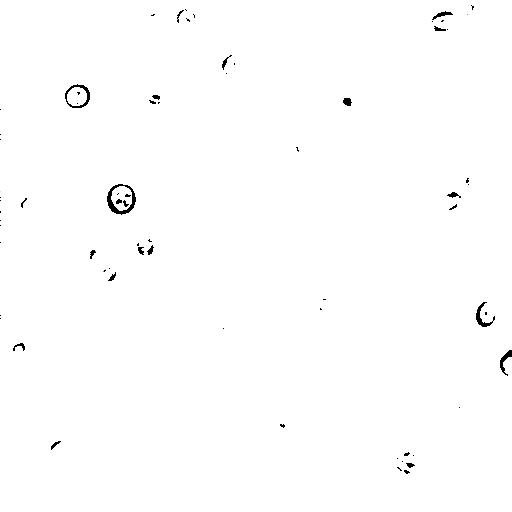micro-algae: (108, 182, 137, 217), (393, 445, 426, 472), (451, 168, 482, 195), (14, 190, 41, 219), (335, 87, 361, 117), (219, 49, 248, 75), (65, 83, 93, 109), (473, 300, 498, 329), (291, 134, 315, 164), (427, 9, 458, 32), (313, 293, 339, 318), (273, 416, 299, 441), (107, 375, 131, 401), (437, 190, 461, 211), (49, 437, 70, 461), (85, 247, 105, 272), (176, 7, 196, 31), (497, 345, 511, 379), (455, 0, 475, 21), (134, 235, 153, 256), (147, 8, 163, 30), (99, 266, 118, 282), (11, 341, 26, 357)
